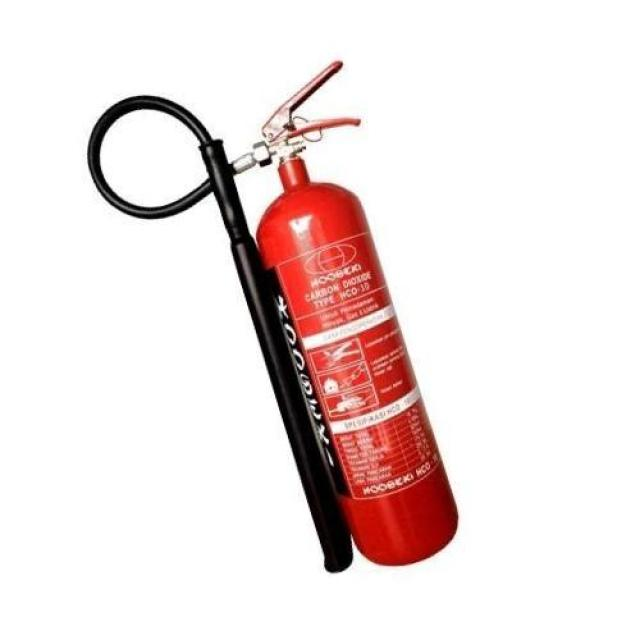fire_extinguisher: (77, 48, 464, 575)
